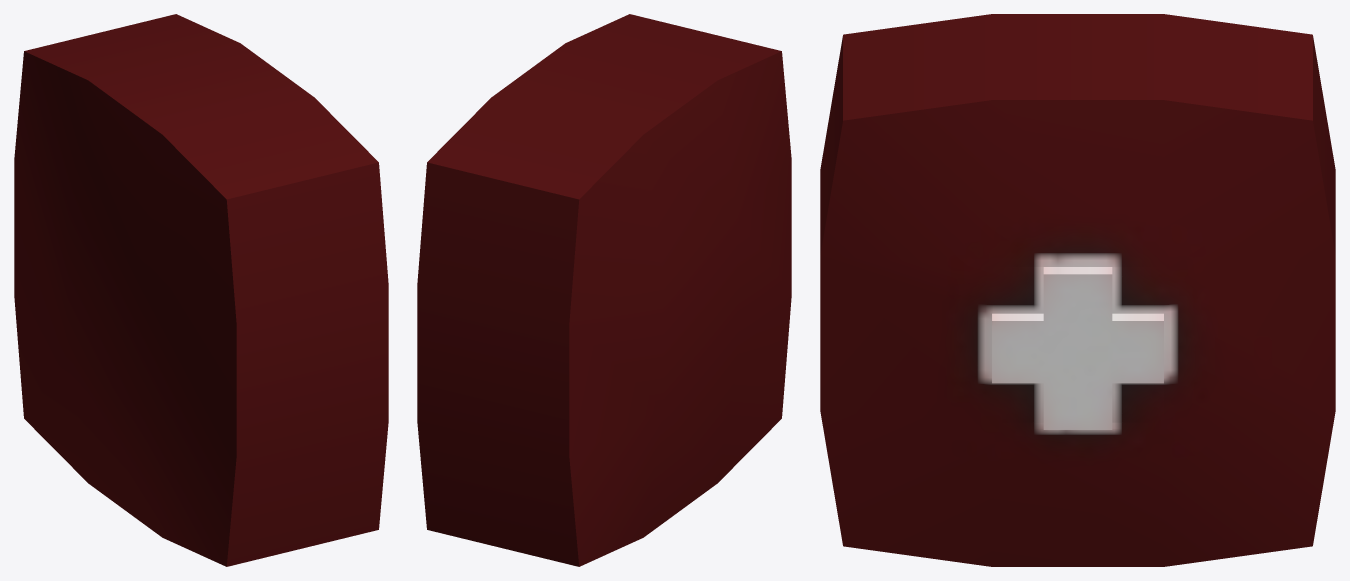
Rendered from Health.fbx.
3 renders of one model, left to right at view 1: azimuth 30°, elevation 25°; view 2: azimuth 150°, elevation 25°; view 3: azimuth 270°, elevation 25°, orthographic. The views are drawn at different scales.
Parts seen in each view (by area): view 1: Health; view 2: Health; view 3: Health.
Boxes of the visible parts, left/top/right/bottom form: Health: left=14, top=14, right=388, bottom=566; Health: left=417, top=14, right=791, bottom=566; Health: left=820, top=14, right=1335, bottom=566.
Size of the model in its own units: 1.07 by 2 by 2.
